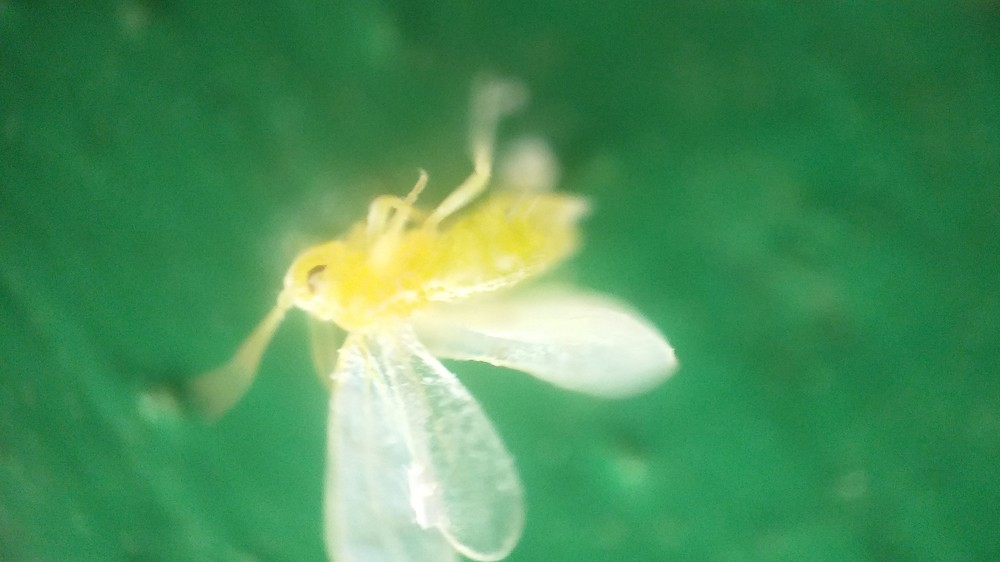Mosca Blanca: (193, 92, 687, 562)
